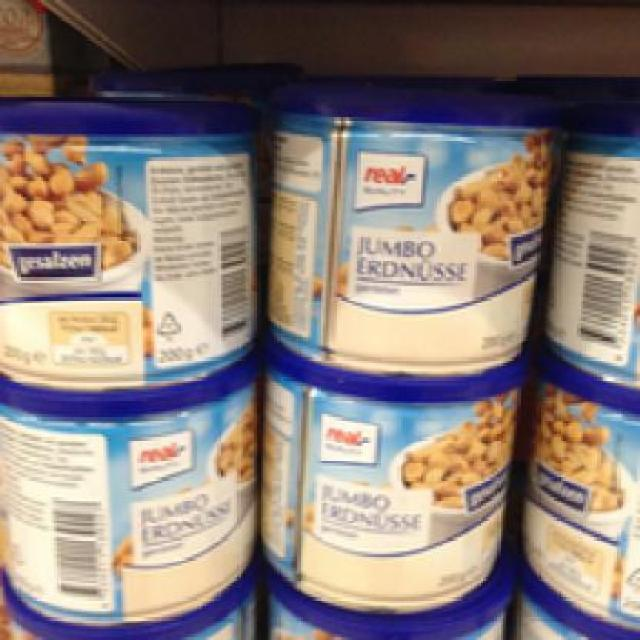Nuts: (260, 82, 563, 372), (0, 94, 266, 386), (256, 340, 530, 614), (0, 360, 263, 626), (517, 352, 634, 638)
